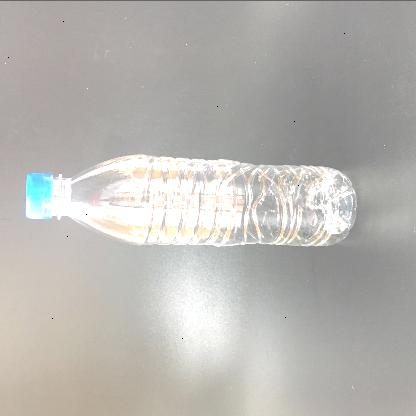Plastic Bottle: (24, 154, 358, 247)
